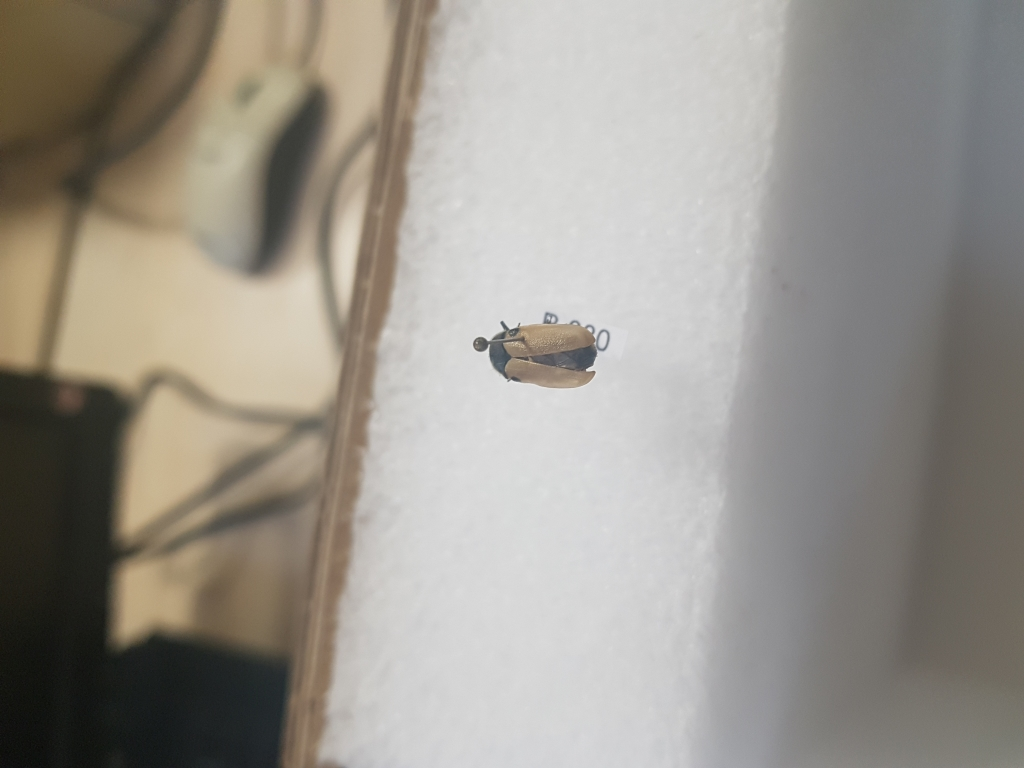Labidostomis_asiatica: (485, 320, 604, 398)
